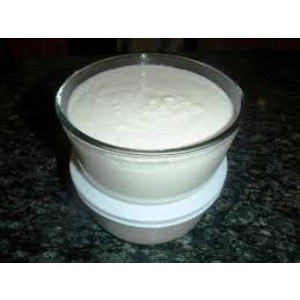milk_brain food: (71, 65, 228, 200)
